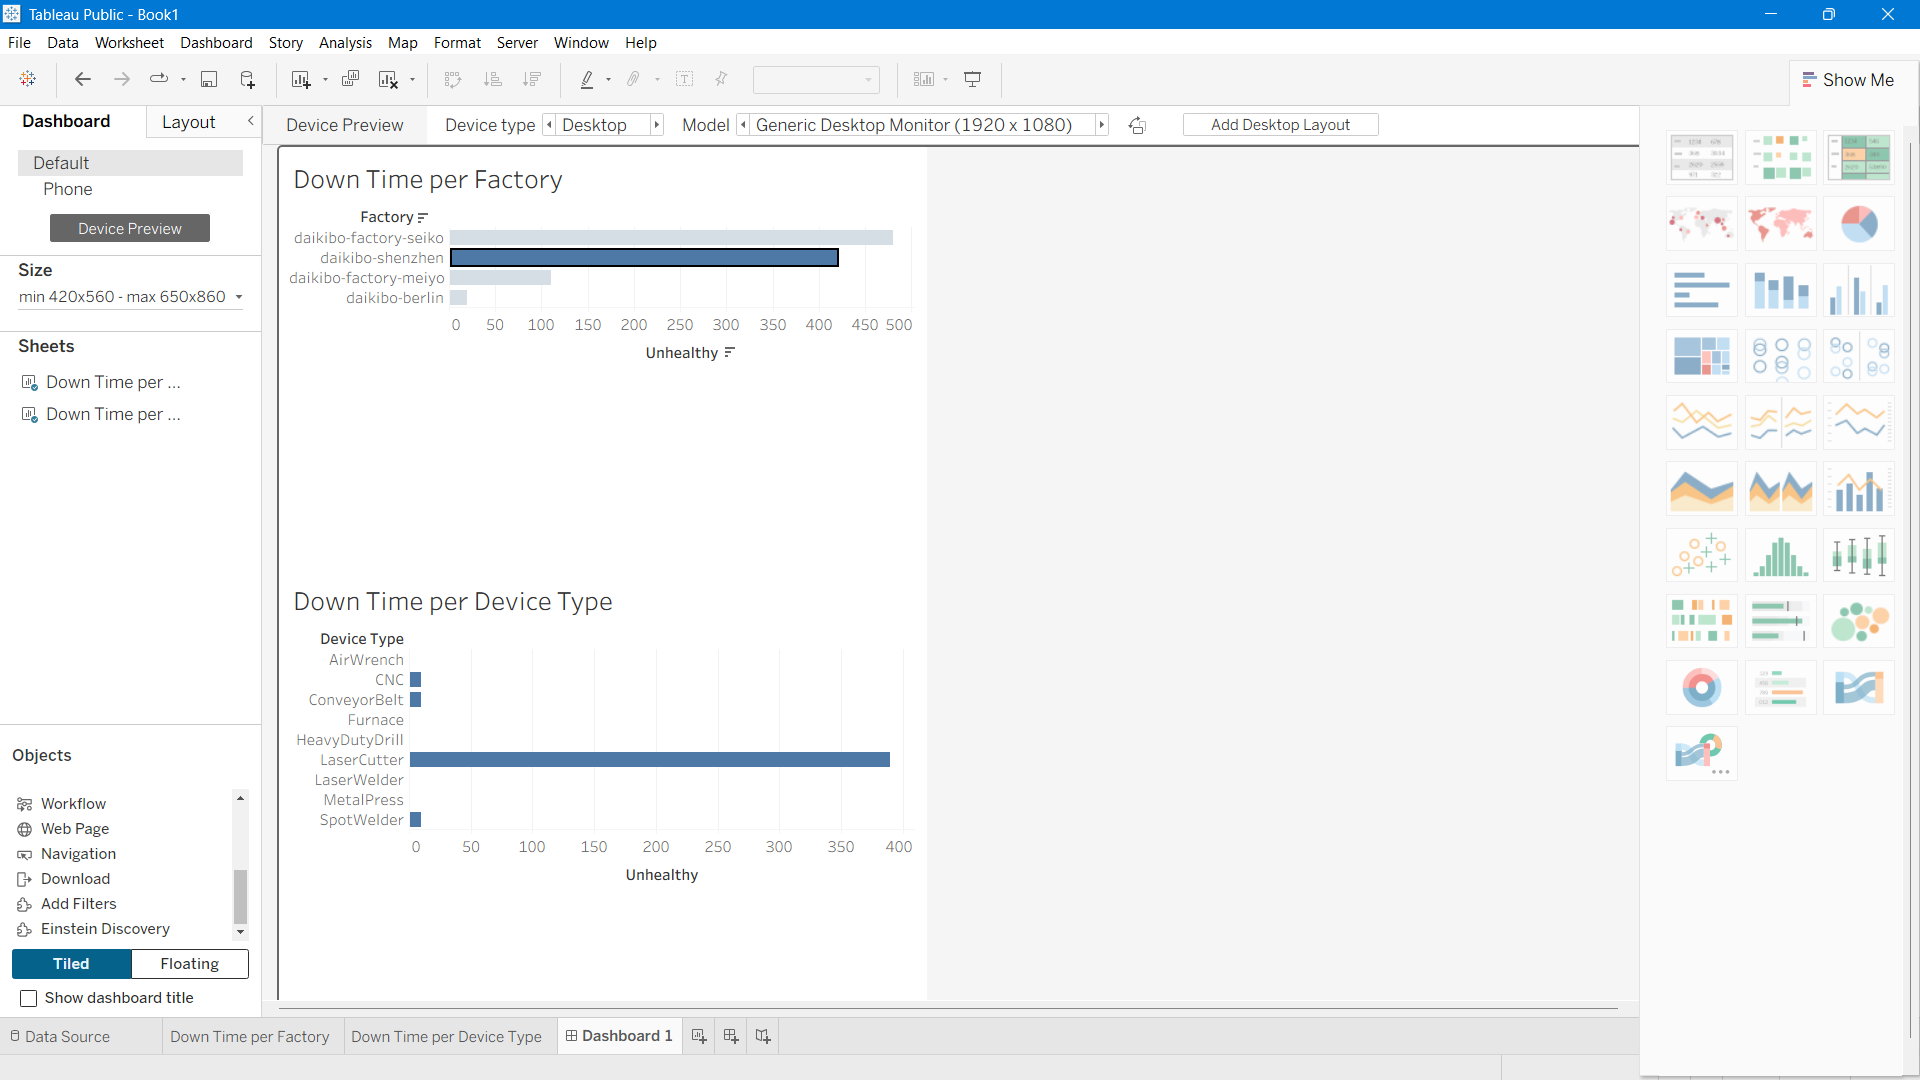

What the dashboard file says about the page in this screenshot:
{"tool":"tableau","page":{"name":"Dashboard 1","canvas":[650,860],"ordinal":0},"visuals":[{"type":"worksheet","title":"Down Time per Factory","mark":"Automatic","rows":["factory"],"cols":["Calculation_2120427445727234"],"box":[8,8,634,422]},{"type":"worksheet","title":"Down Time per Device Type","mark":"Automatic","rows":["deviceType"],"cols":["Calculation_2120427445727234"],"box":[8,430,634,422]}]}

Visuals, with their boxes on the page's 650x860 design canvas (x1, y1, x2, y2). These are canvas units, not pixel positions in the 1920x1080 screenshot, which may show the page scaled, cropped or inside an application window:
"Down Time per Factory" worksheet: {"x1": 8, "y1": 8, "x2": 642, "y2": 430}
"Down Time per Device Type" worksheet: {"x1": 8, "y1": 430, "x2": 642, "y2": 852}
